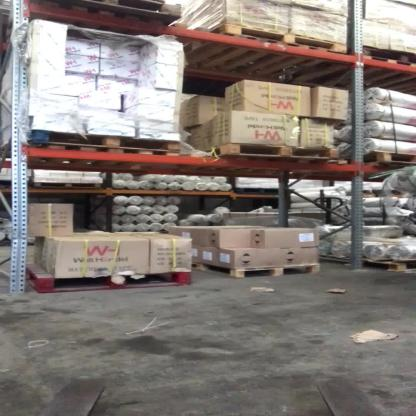vertical_damage: (7, 230, 37, 254)
